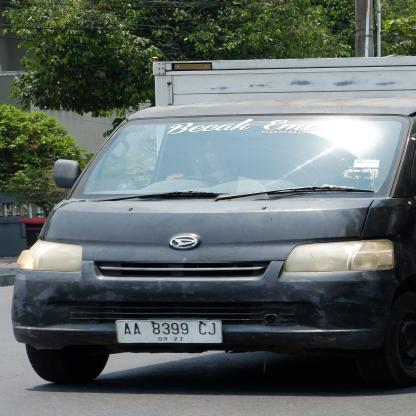Plat-Nomor: (112, 316, 227, 348)
